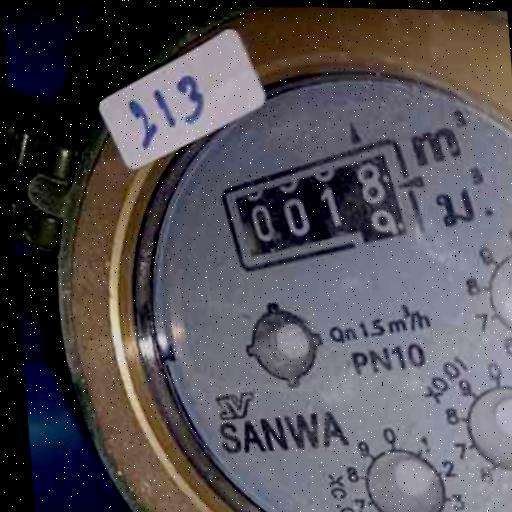0: (265, 175, 326, 250), (232, 187, 287, 258)
1: (303, 166, 360, 240)
8: (338, 152, 409, 246)
border_water_meter_number: (206, 131, 429, 279)
